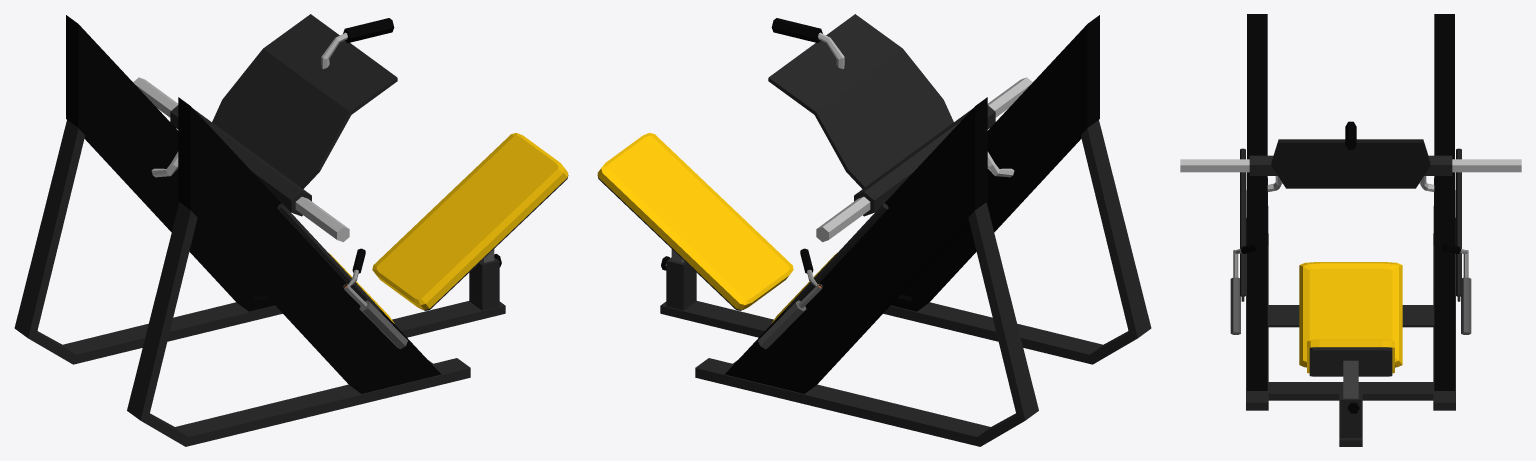
The model's file is Feetpress.glb.
3 renders of one model, left to right at view 1: azimuth 30°, elevation 25°; view 2: azimuth 150°, elevation 25°; view 3: azimuth 270°, elevation 25°, orthographic. The views are drawn at different scales.
Visible parts, largest first — view 1: Feetpress; view 2: Feetpress; view 3: Feetpress.
Part boxes in pixels (left/top/right/bottom): Feetpress: left=14, top=14, right=568, bottom=446; Feetpress: left=597, top=14, right=1151, bottom=446; Feetpress: left=1180, top=14, right=1521, bottom=446.
Bounding box in the file's own units: 5.35 × 3.7 × 4.04.
1 material, 1 textured.
